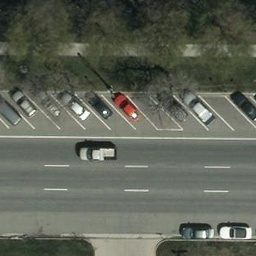car: (60, 87, 87, 122), (88, 86, 115, 121), (113, 85, 140, 120), (161, 87, 188, 122), (186, 89, 213, 124), (229, 91, 256, 126), (13, 86, 33, 120), (38, 84, 58, 118), (1, 94, 20, 127), (79, 146, 118, 162), (177, 224, 216, 240), (217, 224, 256, 240)
